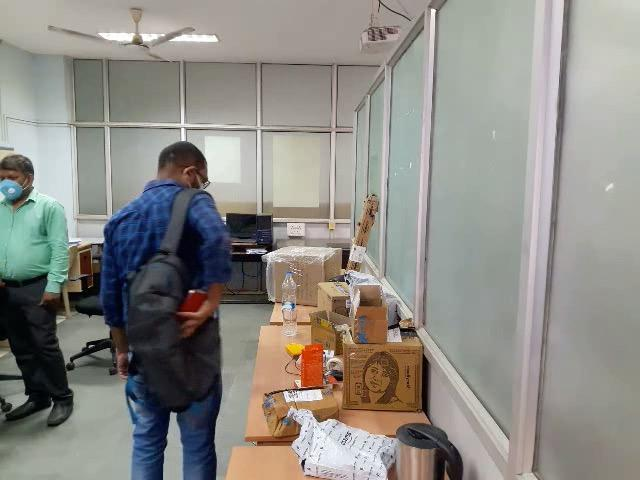shoplifting: (68, 252, 227, 397)
